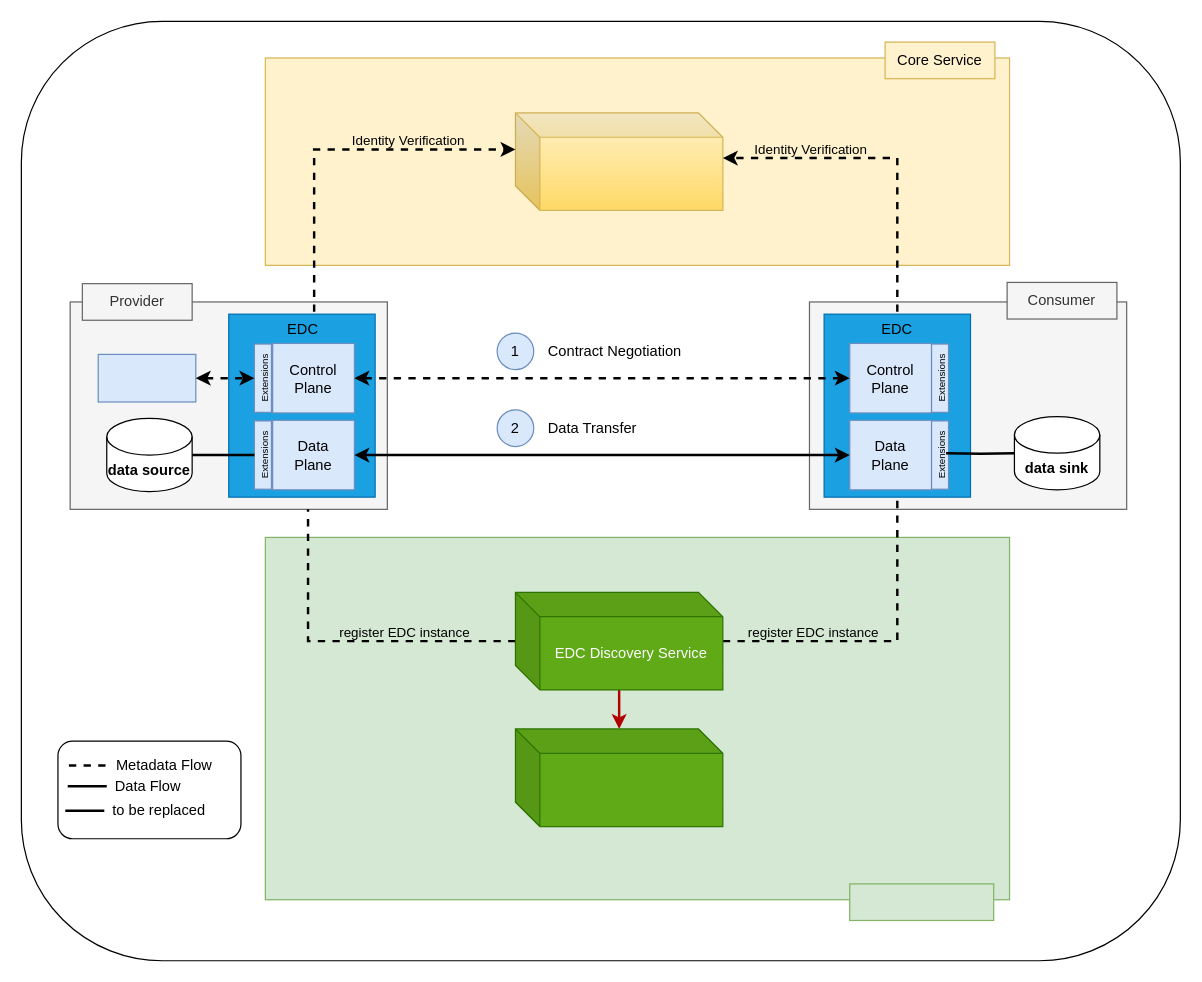
This 1202x982 diagram has some shape labels left out. Here are the shapes that lost their labels. From the top down, the box of each, then its label:
(514, 112, 723, 210): Managed Identity Wallet (MIW)
(97, 353, 196, 402): DDTR
(514, 728, 723, 827): Federated Catalog
(849, 883, 994, 920): Federated Services
